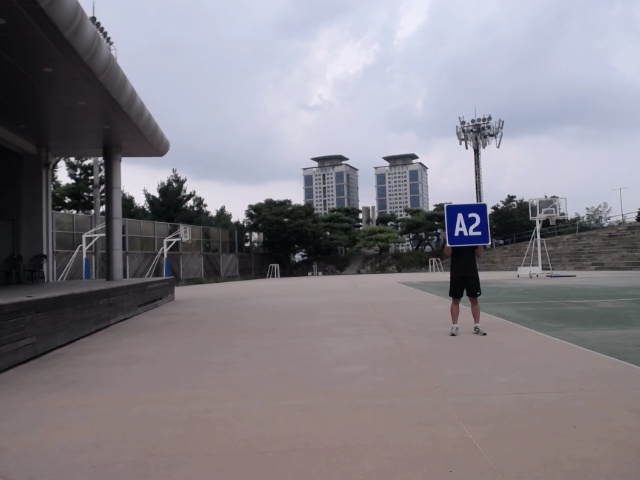delivery_a2: (446, 203, 490, 247)
